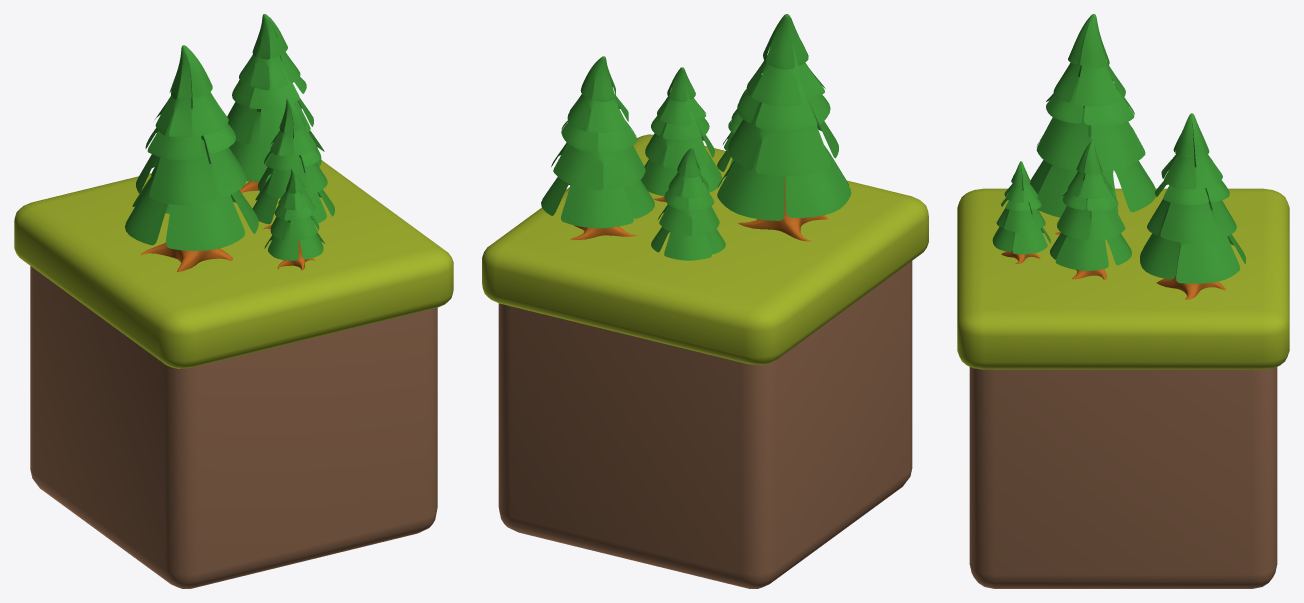
3 views of the same model, side by side, from view 1: azimuth 30°, elevation 25°; view 2: azimuth 150°, elevation 25°; view 3: azimuth 270°, elevation 25° (orthographic). The views are drawn at different scales.
Visible parts, largest first — view 1: Cube.030, Cube.031, Cube.016; view 2: Cube.030, Cube.031, Cube.016; view 3: Cube.030, Cube.031, Cube.016.
Boxes of the visible parts, bbox=[...] form: Cube.030: bbox=[30, 266, 437, 588]; Cube.031: bbox=[14, 160, 453, 368]; Cube.016: bbox=[125, 14, 334, 271]; Cube.030: bbox=[498, 261, 912, 588]; Cube.031: bbox=[482, 134, 928, 365]; Cube.016: bbox=[541, 14, 851, 260]; Cube.030: bbox=[969, 367, 1277, 588]; Cube.031: bbox=[957, 188, 1289, 369]; Cube.016: bbox=[992, 14, 1245, 299].
Bounding box in the file's own units: 216 × 349 × 216.
